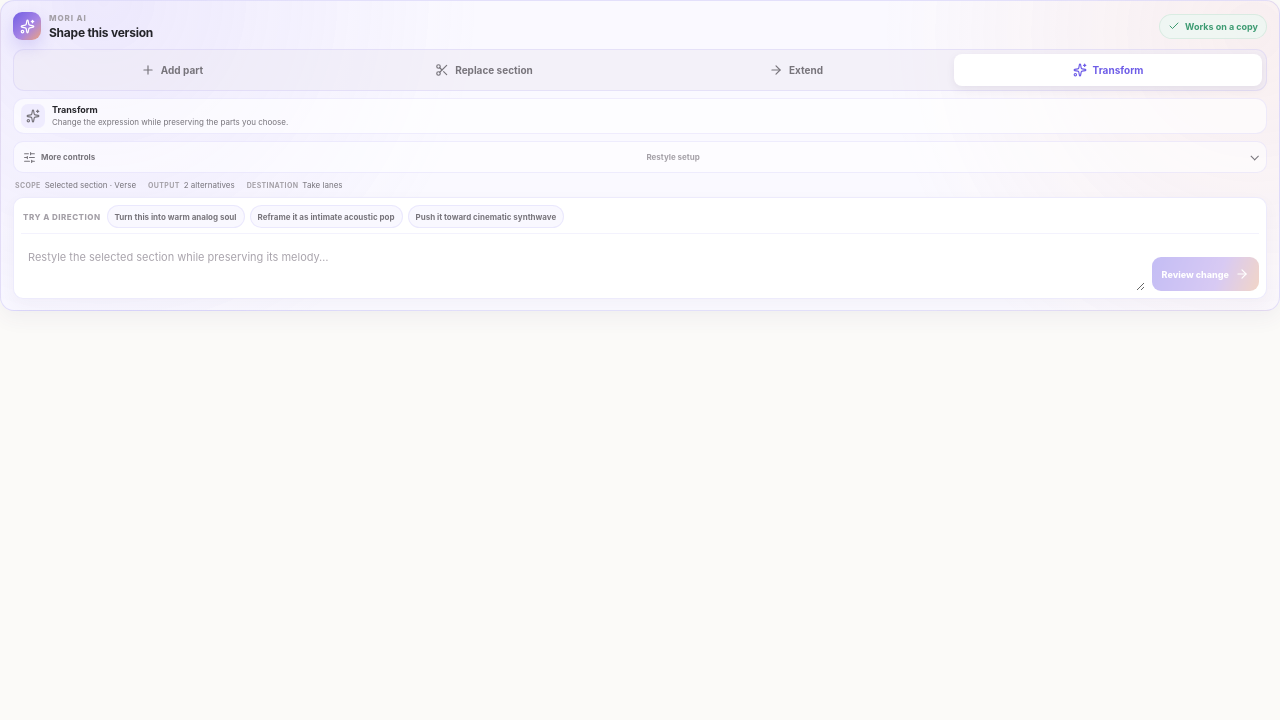
Test: Studio AI composer › keeps the compact command bar focused while leaving advanced controls available
This screenshot has width=1280, height=720.
Check: the element named "Change type" is shown, box [13,49,1267,91]
Check: the element named "Change context" shows "Selected section · Verse", box [45,180,136,190]
Click the heading "More controls Restyle setup".
click(68, 157)  # box [23,151,700,164]
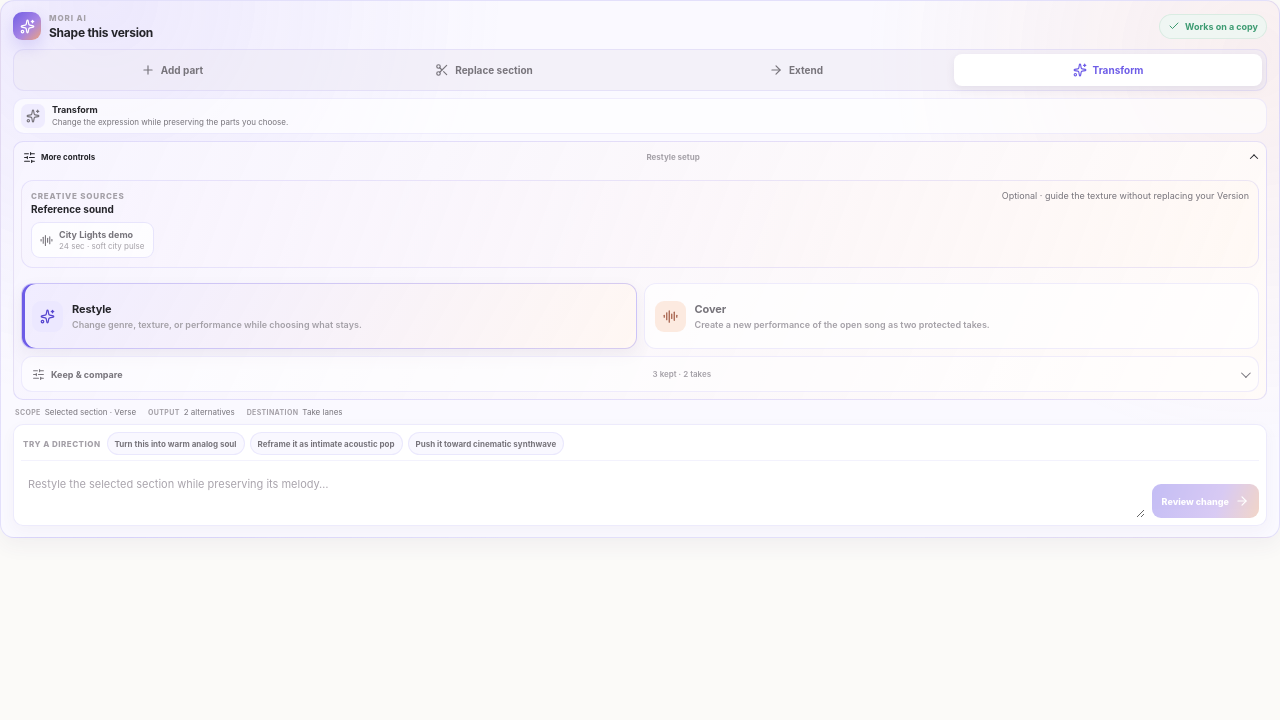
Check: the element named "Transform intent" is shown, box [21,283,1259,349]
